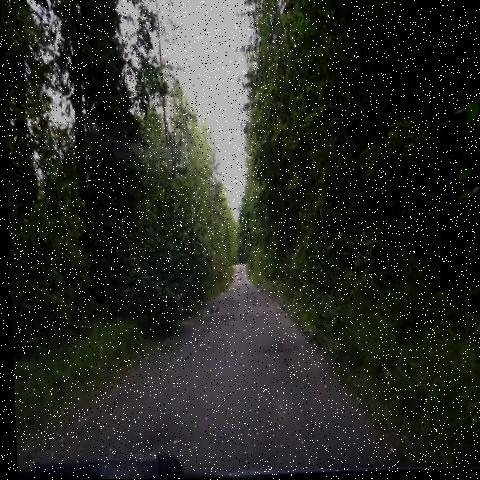pothole: (114, 415, 205, 465), (255, 333, 304, 364), (192, 316, 224, 331), (222, 308, 242, 332), (220, 292, 243, 310), (225, 282, 243, 296)
